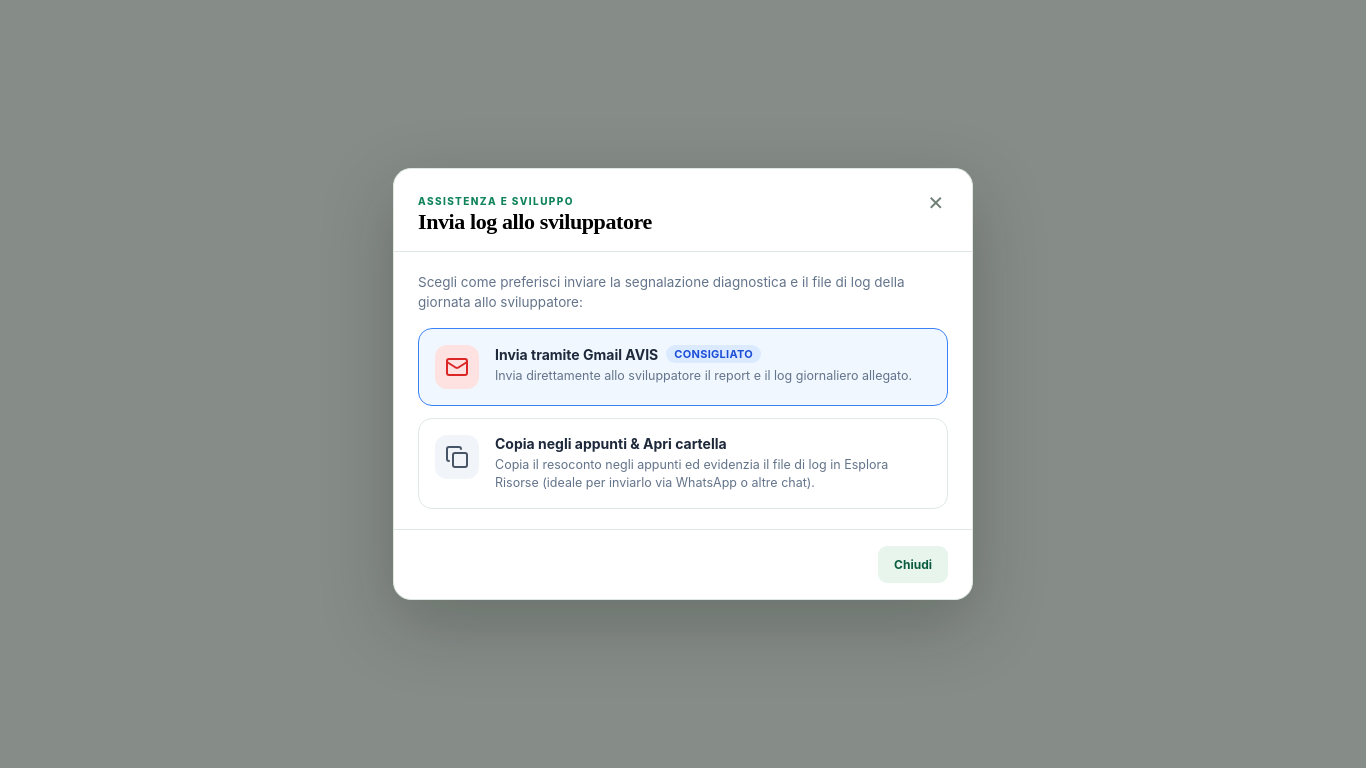
Scenario: DeveloperReportModal › offers all delivery methods and sends the selected method
Check: the button "Copia negli appunti" is shown, box [418, 418, 948, 509]
Click the button "Gmail AVIS" at (683, 367), box [418, 328, 948, 406]
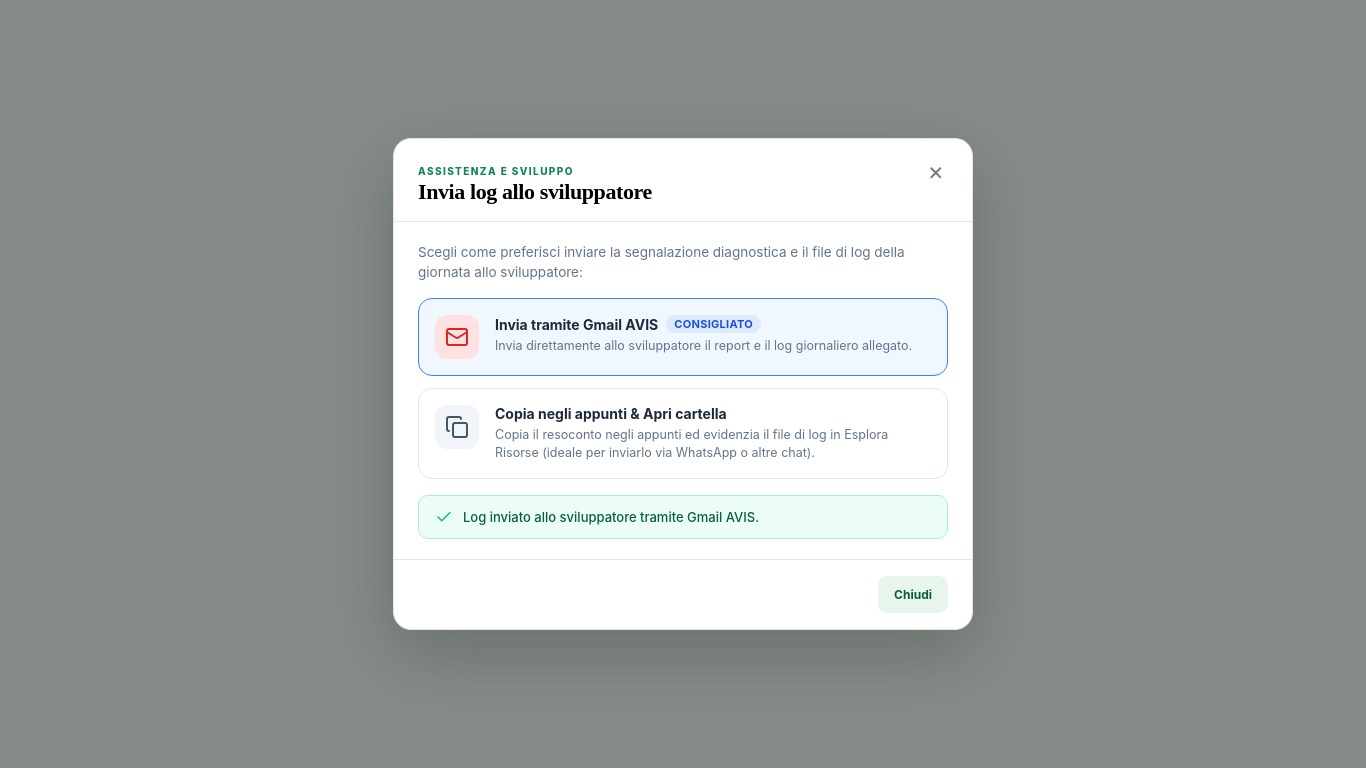
Check: the text "Log inviato allo sviluppatore tramite Gmail AVIS." is shown, box [463, 509, 759, 525]
